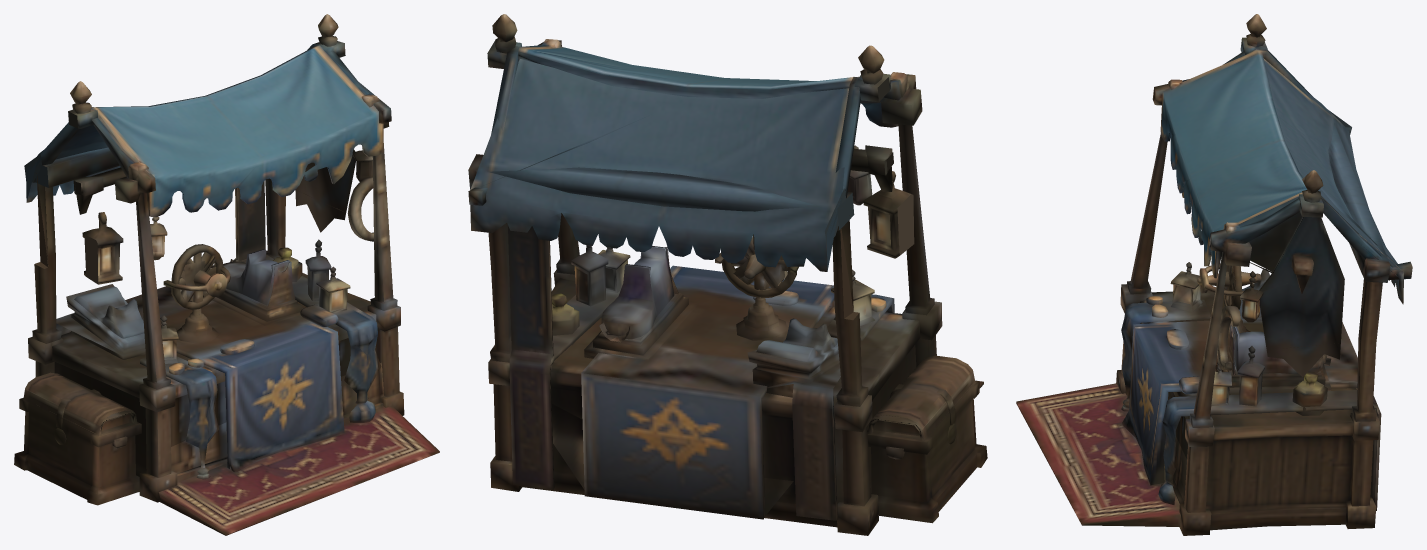
Rendered from cosmic.glb.
3 views of the same model, side by side, from view 1: azimuth 30°, elevation 25°; view 2: azimuth 150°, elevation 25°; view 3: azimuth 270°, elevation 25° (orthographic). The views are drawn at different scales.
Parts seen in each view (by area): view 1: market_stall_cosmic; view 2: market_stall_cosmic; view 3: market_stall_cosmic.
Boxes of the visible parts, x1,y1,x2,y2 form: market_stall_cosmic: [14, 14, 439, 535]; market_stall_cosmic: [468, 14, 987, 535]; market_stall_cosmic: [1016, 14, 1412, 535].
Size of the model in its own units: 3 by 3.14 by 2.9.
1 material, 1 textured.
